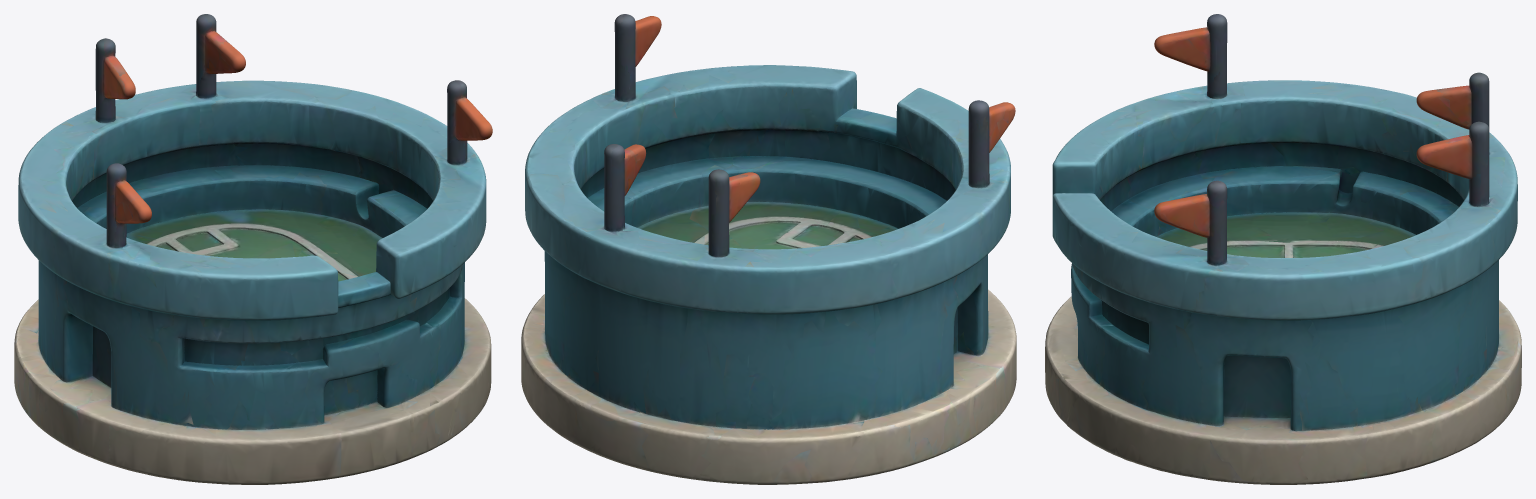
File: stadium_pbr.glb
3 views of the same model, side by side, from view 1: azimuth 30°, elevation 25°; view 2: azimuth 150°, elevation 25°; view 3: azimuth 270°, elevation 25° (orthographic). The views are drawn at different scales.
Parts seen in each view (by area): view 1: model; view 2: model; view 3: model.
Part boxes in pixels (<box>): model: <box>14,14,492,484</box>; model: <box>521,14,1016,484</box>; model: <box>1045,14,1521,484</box>.
Bounding box in the file's own units: 1.83 × 1.22 × 1.83.
1 material, 1 textured.
